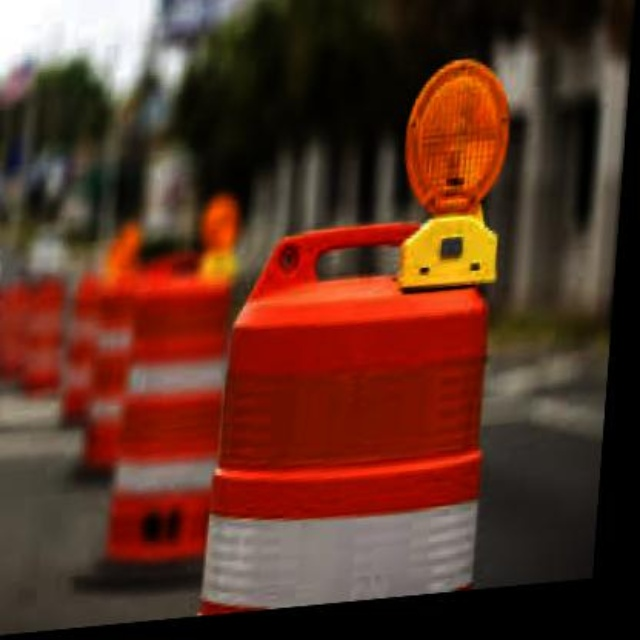obstacle: (193, 226, 520, 623)
